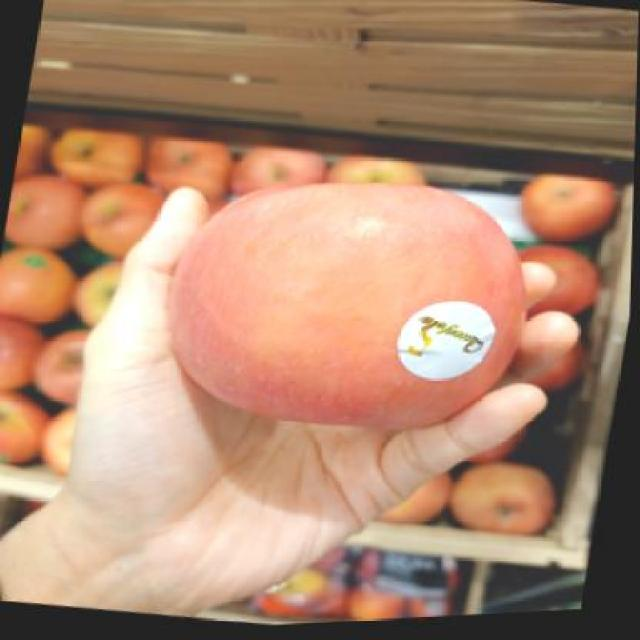Fresh Apple: (190, 188, 516, 436)
